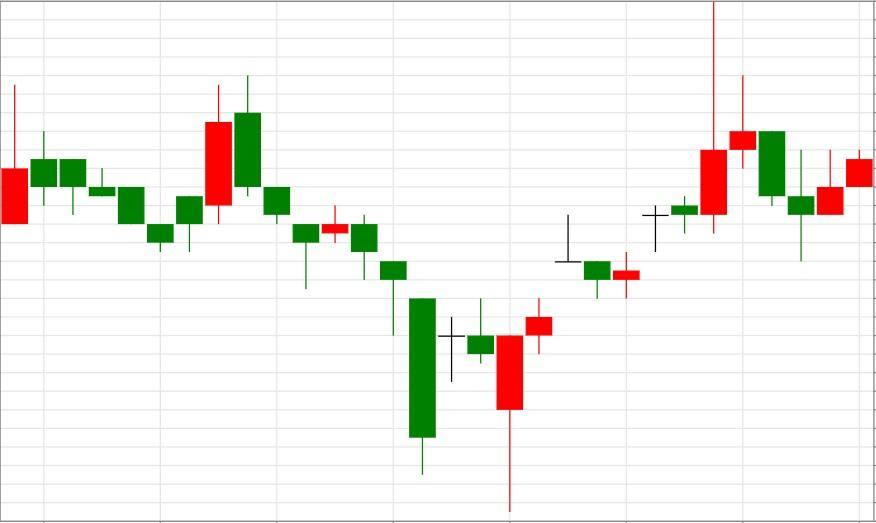three_black_crows_fall: (146, 74, 321, 290)
